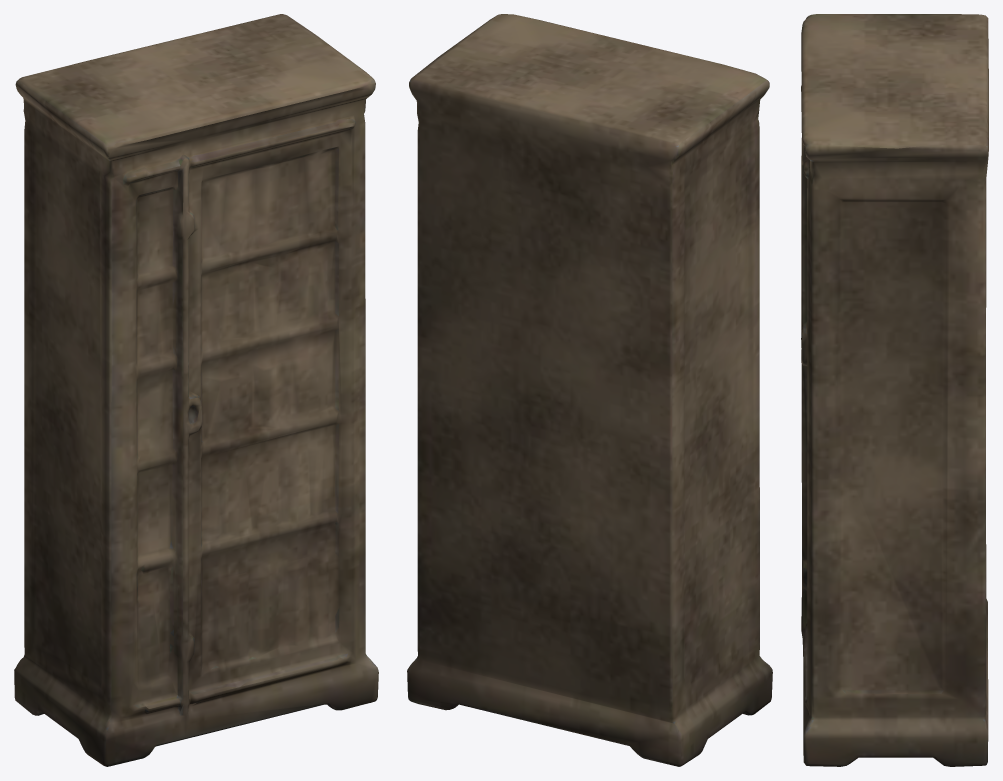
The model's file is simple-wood-bookcase-v002.glb.
3 renders of one model, left to right at view 1: azimuth 30°, elevation 25°; view 2: azimuth 150°, elevation 25°; view 3: azimuth 270°, elevation 25°, orthographic.
Visible parts, largest first — view 1: simple-wood-bookcase; view 2: simple-wood-bookcase; view 3: simple-wood-bookcase.
Part boxes in pixels (x1,y1,x2,y2): simple-wood-bookcase: (14,14,378,766); simple-wood-bookcase: (407,14,772,766); simple-wood-bookcase: (801,14,988,766).
Size of the model in its own units: 1.06 by 2.3 by 0.6276.
Materials: 1 (1 with a texture image).
